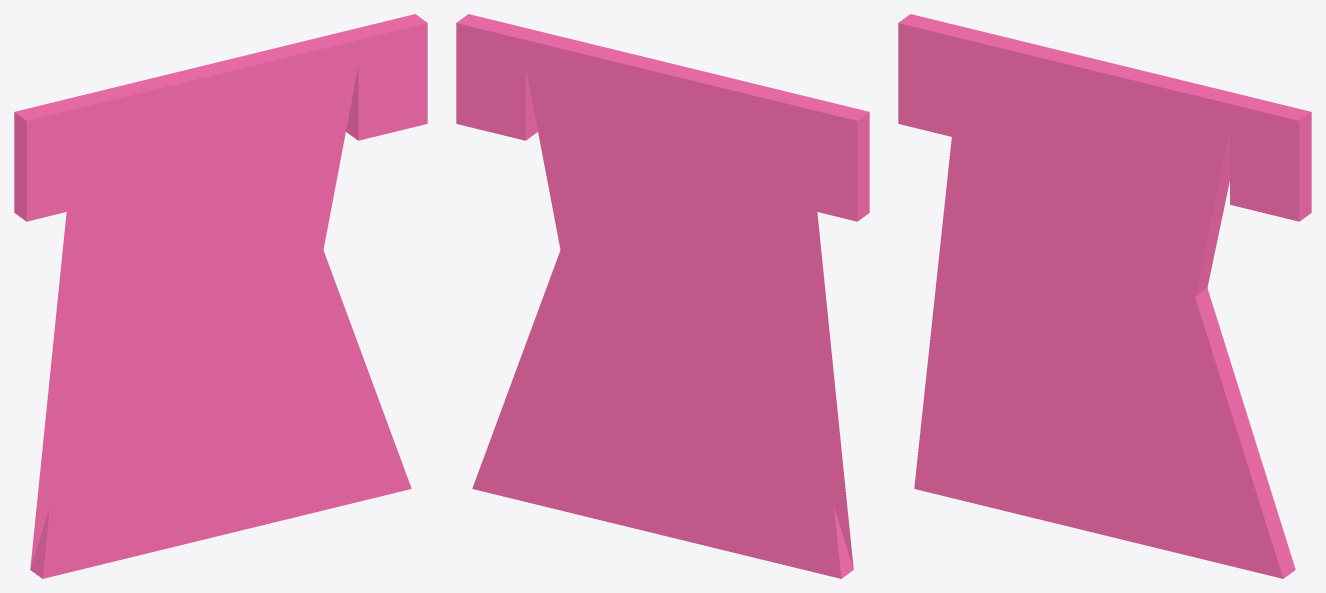
File: female-dress.glb
3 renders of one model, left to right at view 1: azimuth 30°, elevation 25°; view 2: azimuth 150°, elevation 25°; view 3: azimuth 330°, elevation 25°, orthographic.
Parts seen in each view (by area): view 1: Female Dress Starter; view 2: Female Dress Starter; view 3: Female Dress Starter.
Boxes of the visible parts, left/top/right/bottom form: Female Dress Starter: left=14, top=14, right=427, bottom=578; Female Dress Starter: left=456, top=14, right=869, bottom=578; Female Dress Starter: left=898, top=14, right=1311, bottom=578.
Bounding box in the file's own units: 1.5 × 1.65 × 0.08.
